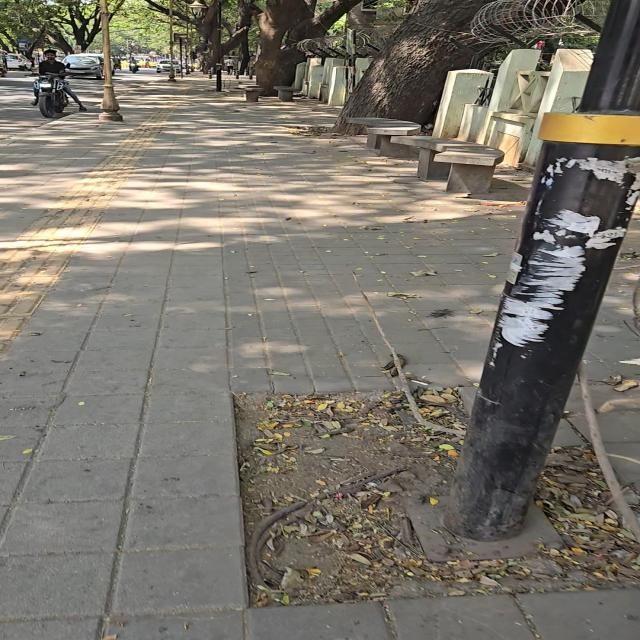obstacle: (445, 0, 639, 540), (392, 137, 503, 192), (347, 118, 421, 158), (99, 0, 123, 121), (168, 0, 176, 81), (216, 0, 222, 91), (240, 86, 263, 102), (274, 86, 295, 101), (185, 22, 190, 75), (179, 38, 183, 78)
